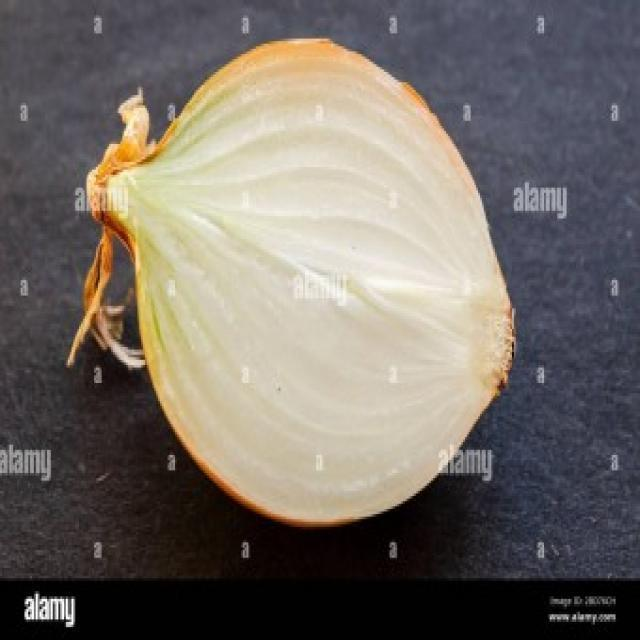Onion: (68, 38, 520, 526)
